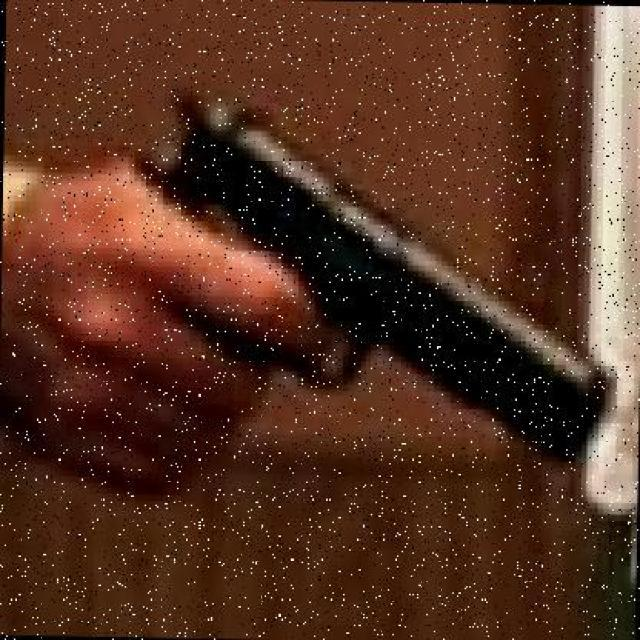rifle: (118, 76, 640, 490)
